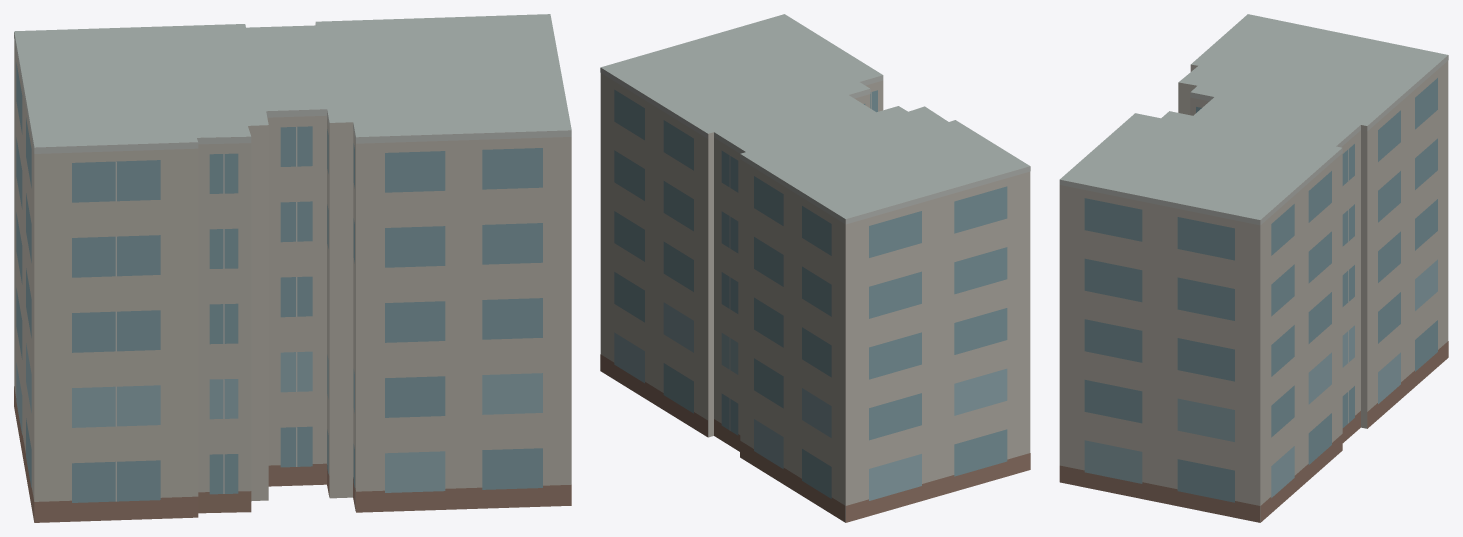
The model's file is survey-upis-33032723.glb.
3 renders of one model, left to right at view 1: azimuth 30°, elevation 25°; view 2: azimuth 150°, elevation 25°; view 3: azimuth 270°, elevation 25°, orthographic. The views are drawn at different scales.
Visible parts, largest first — view 1: survey-upis-33032723.tmp; view 2: survey-upis-33032723.tmp; view 3: survey-upis-33032723.tmp.
Boxes of the visible parts, x1,y1,x2,y2 form: survey-upis-33032723.tmp: (14,14,571,522); survey-upis-33032723.tmp: (600,14,1030,522); survey-upis-33032723.tmp: (1059,14,1448,522).
Bounding box in the file's own units: 20.45 × 14 × 16.31.
